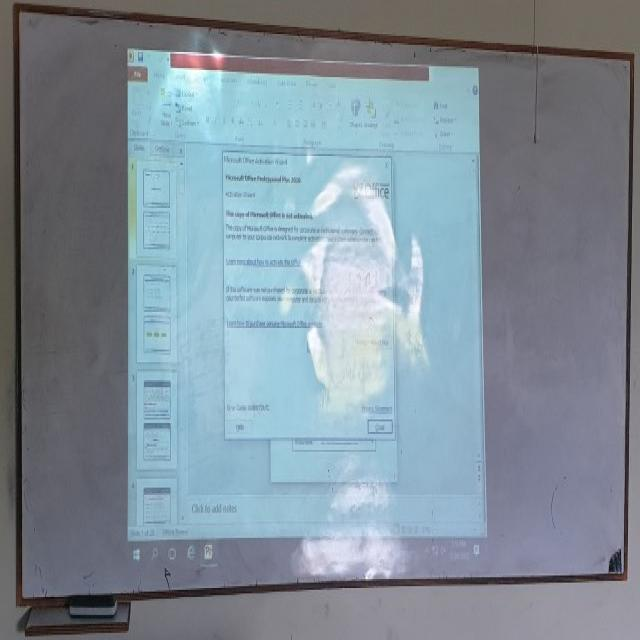Slide: (127, 49, 489, 575)
White-board: (17, 9, 630, 602)
